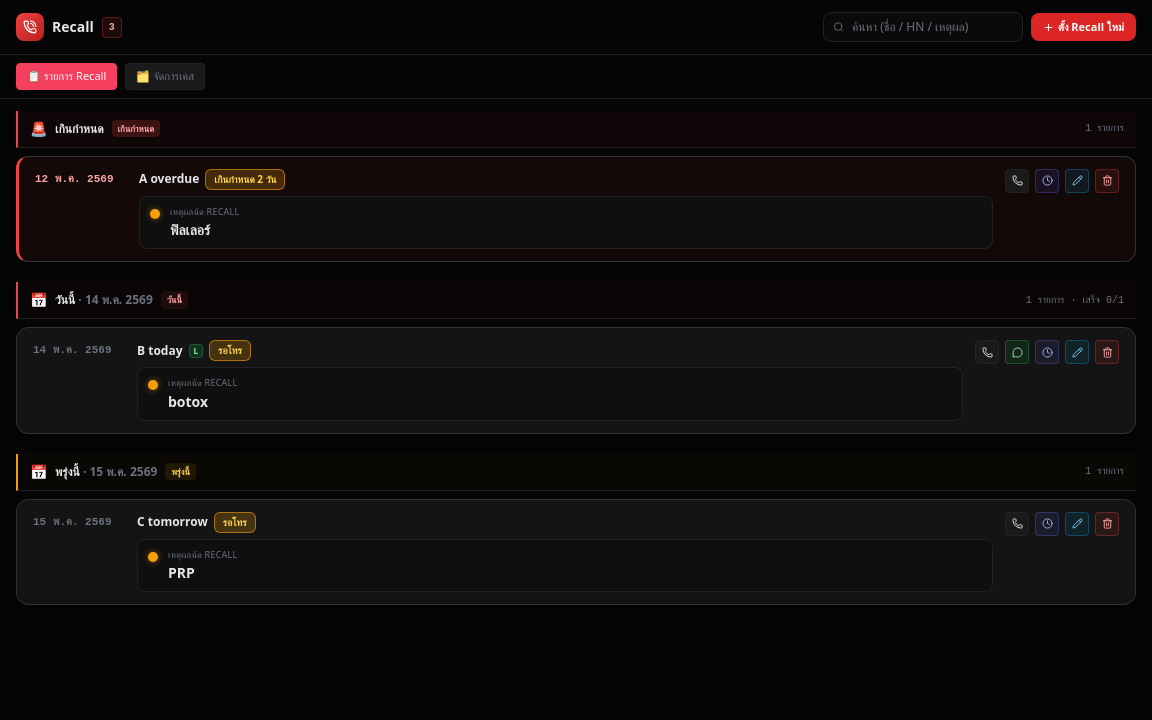
Scenario: Phase 29 · T3 create flow › T3.1 create button opens create modal
The width and height of the screenshot is (1152, 720).
Click the button with test id "recall-header-create" at point(1084, 27), box [1031,13,1136,41]
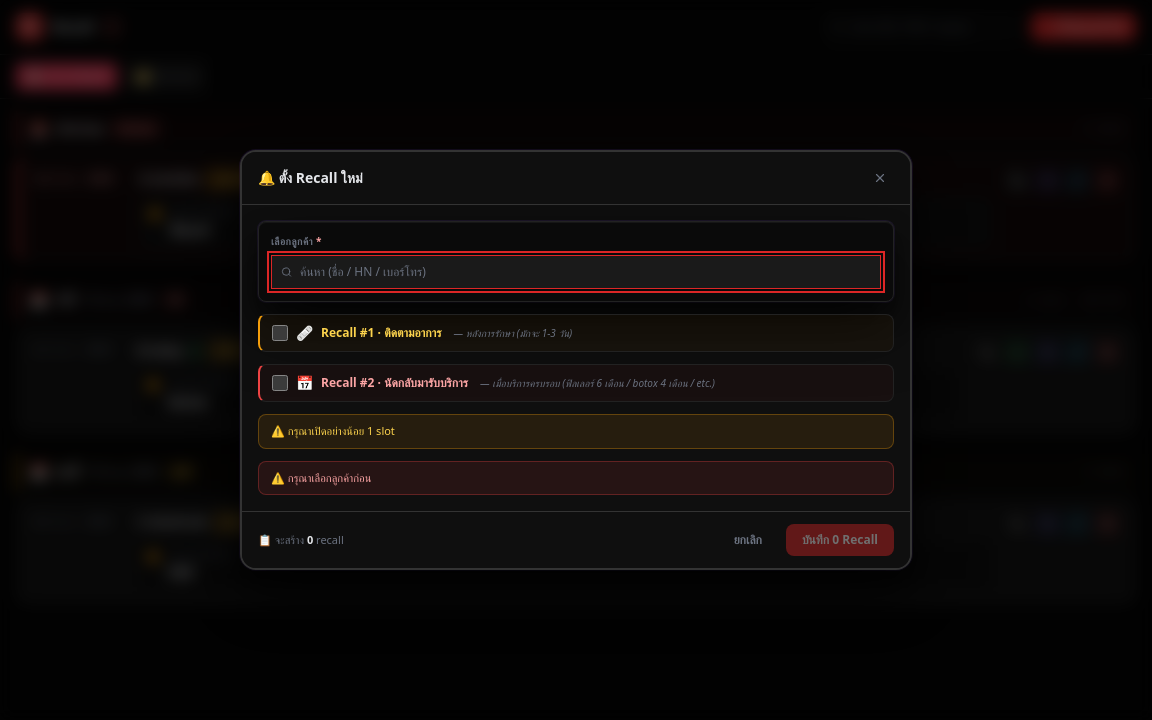
Now the element with test id "recall-create-modal" is shown
